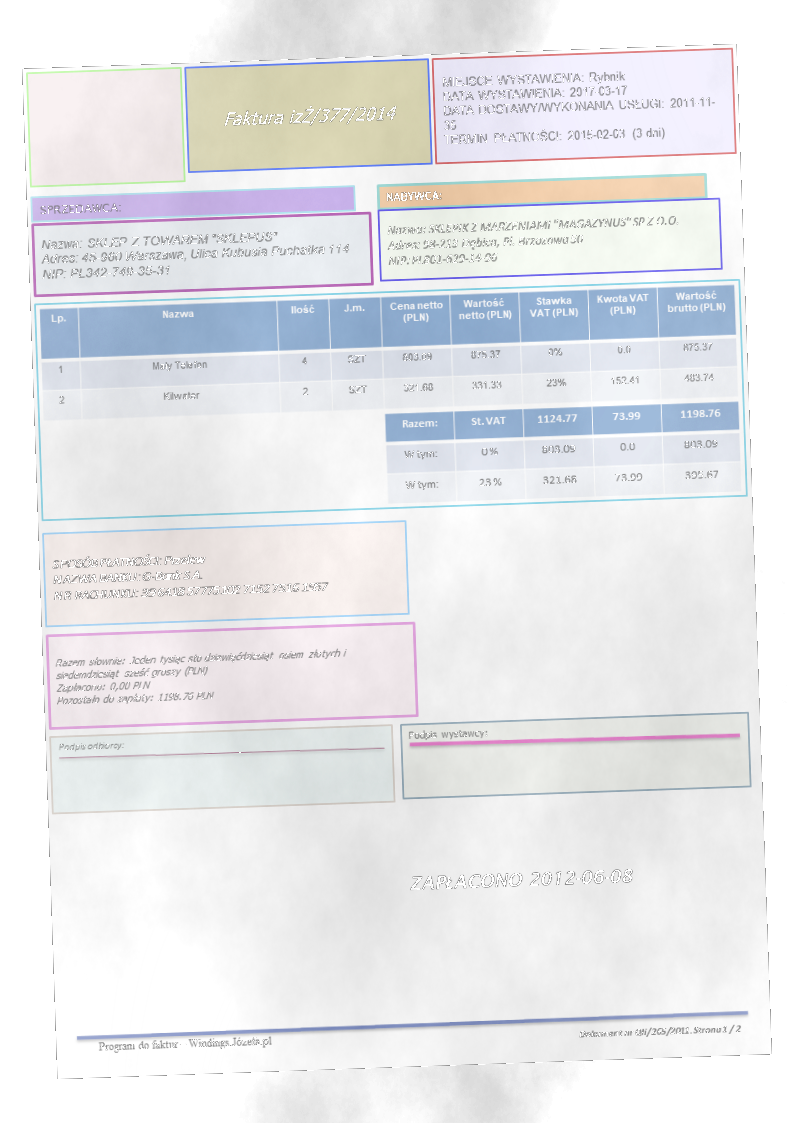Table: (38, 282, 740, 423), (382, 399, 744, 506)
TextBox: (439, 63, 720, 151), (54, 645, 354, 708), (38, 225, 352, 284), (384, 211, 683, 270), (49, 545, 331, 606), (408, 863, 634, 895), (219, 101, 401, 131), (96, 1030, 273, 1056), (576, 1019, 744, 1042), (405, 724, 490, 744), (35, 198, 123, 217), (56, 735, 125, 755), (382, 185, 443, 206)
